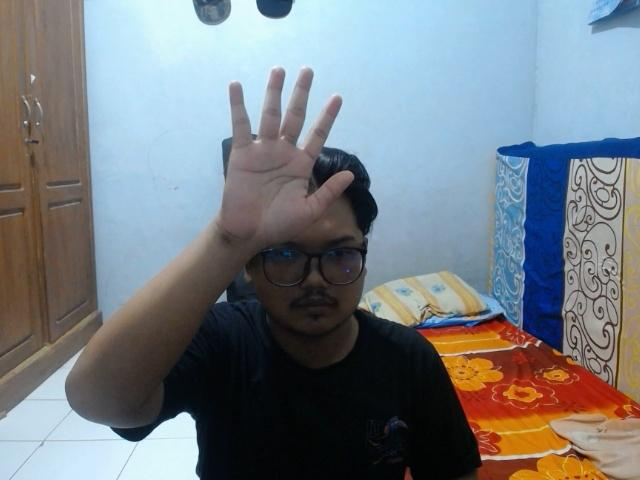Release: (213, 61, 360, 257)
